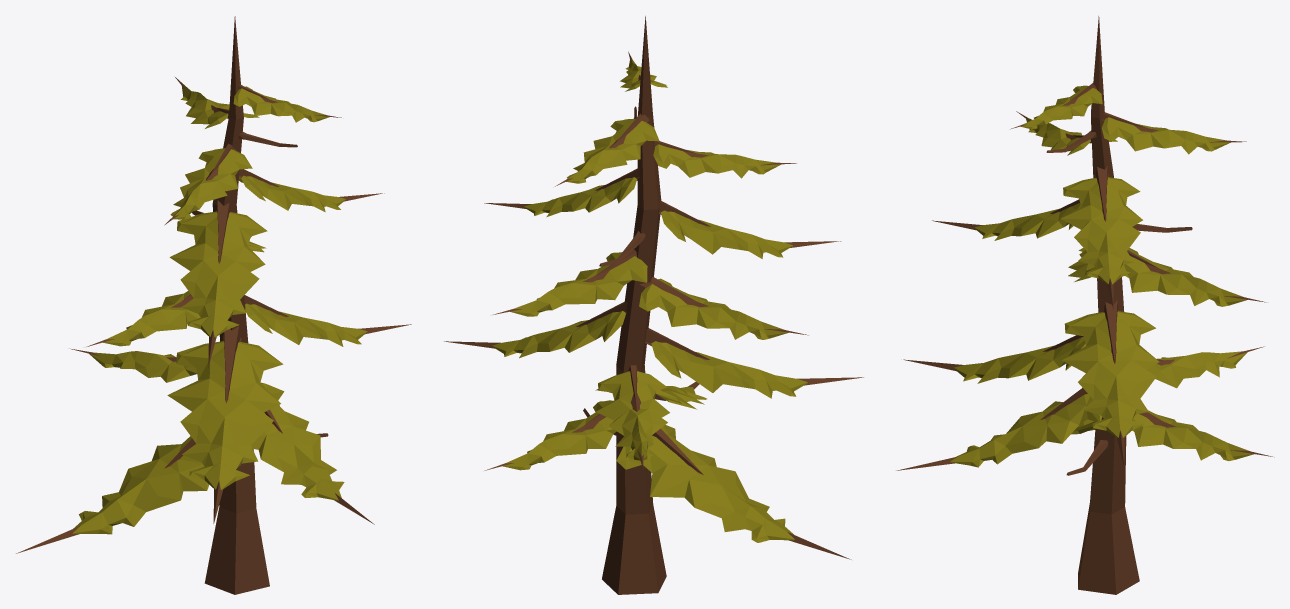
The model's file is FirTree1.fbx.
The picture shows the model from 3 angles, left to right: view 1: azimuth 30°, elevation 25°; view 2: azimuth 150°, elevation 25°; view 3: azimuth 270°, elevation 25°; orthographic projection.
Visible parts, largest first — view 1: FirTree1; view 2: FirTree1; view 3: FirTree1.
Boxes of the visible parts, x1=… form: FirTree1: x1=16, y1=16, x2=411, y2=594; FirTree1: x1=444, y1=16, x2=863, y2=594; FirTree1: x1=896, y1=16, x2=1274, y2=594.
Bounding box in the file's own units: 423 × 569 × 349.
